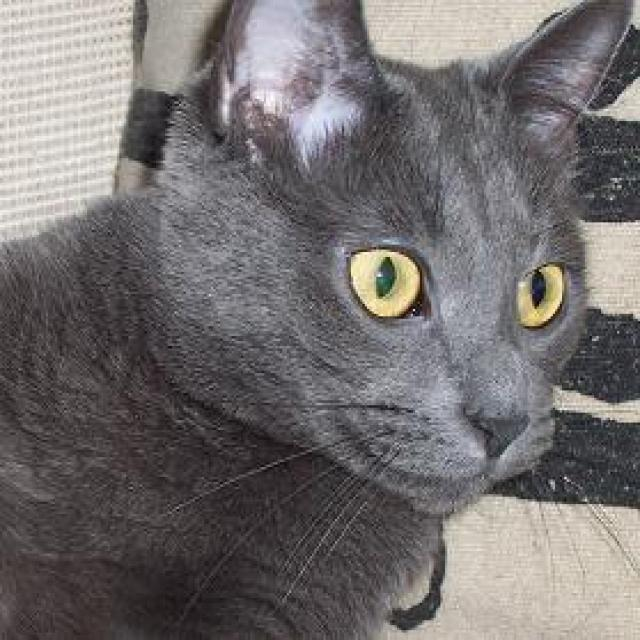Russian_Blue: (137, 0, 640, 521)
